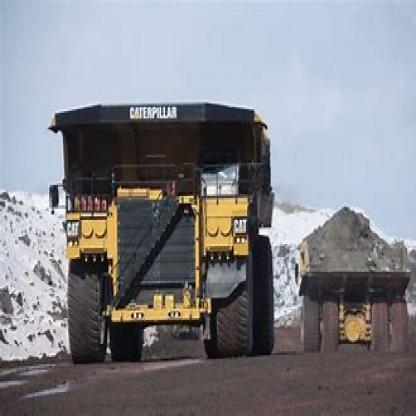dump_truck: (48, 91, 282, 366), (296, 202, 411, 361)
